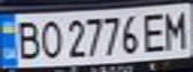2: (63, 16, 87, 58)
6: (118, 11, 145, 56)
7: (81, 15, 106, 57), (103, 14, 124, 56)
B: (9, 17, 42, 61)
E: (139, 9, 172, 53)
M: (160, 7, 190, 51)
O: (36, 17, 63, 60)
